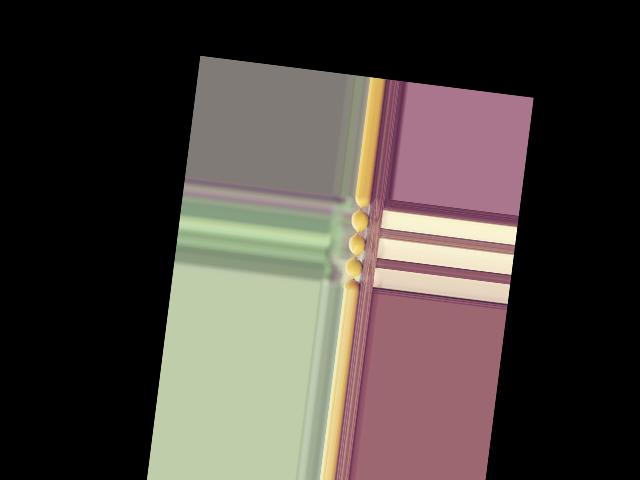lemon: (353, 195, 370, 208)
